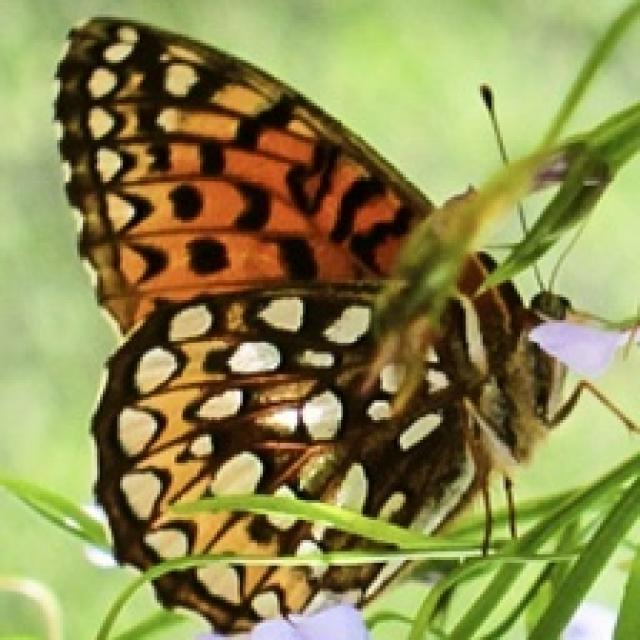butterfly: (49, 11, 637, 634)
